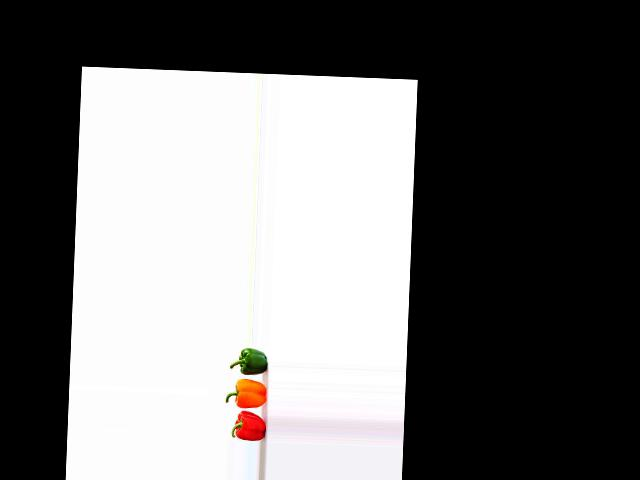bell_pepper: (224, 409, 265, 443)
